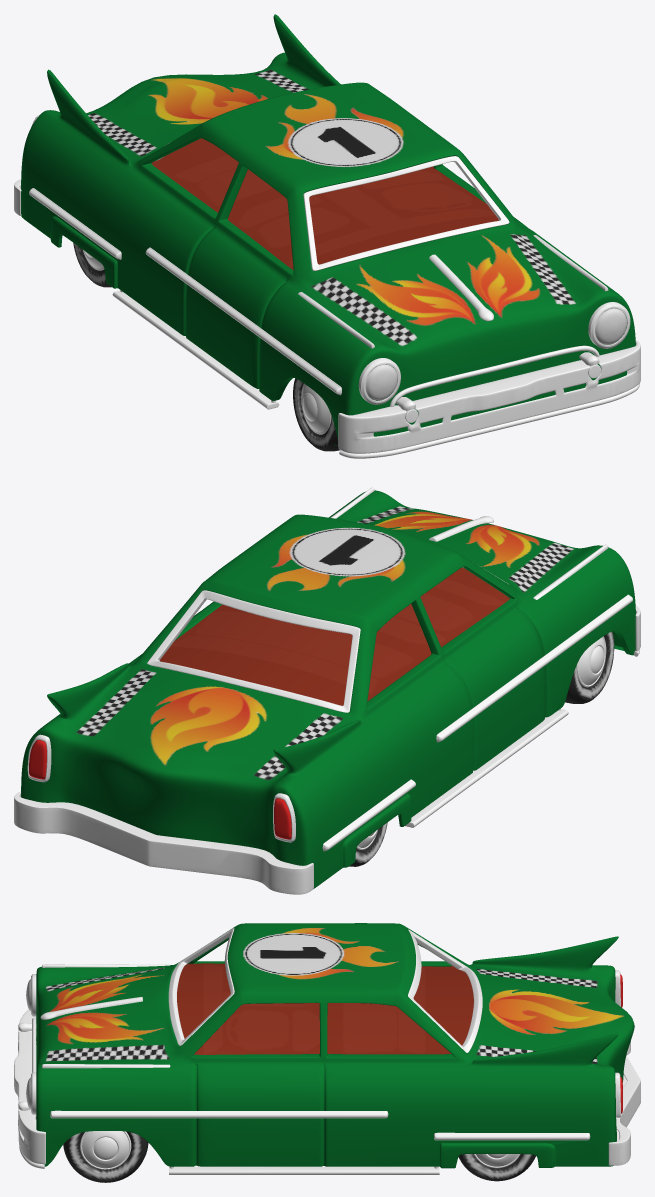
Rendered from toy_car.glb.
3 views of the same model, one above another, from view 1: azimuth 30°, elevation 25°; view 2: azimuth 150°, elevation 25°; view 3: azimuth 270°, elevation 25° (orthographic). The views are drawn at different scales.
Bounding box in the file's own units: 0.0187 × 0.0116 × 0.0384.
Materials: 1 (1 with a texture image).
